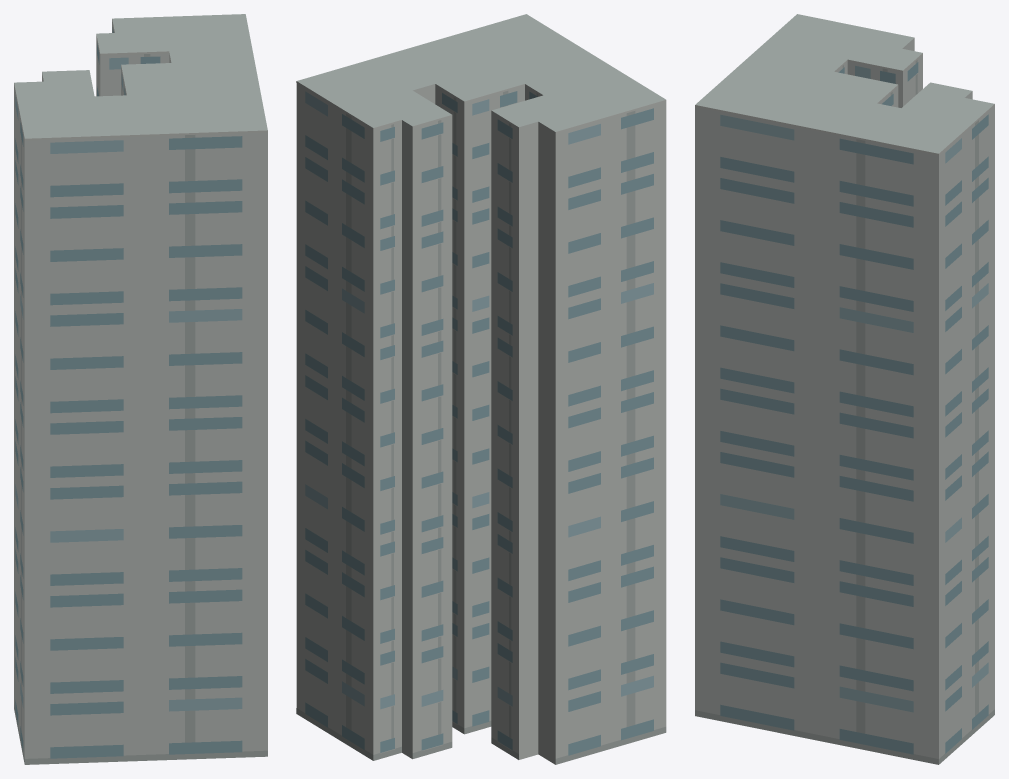
File: residential-70343155-5e8e-4729-a06d-0482565616be.glb
3 views of the same model, side by side, from view 1: azimuth 30°, elevation 25°; view 2: azimuth 150°, elevation 25°; view 3: azimuth 270°, elevation 25° (orthographic). The views are drawn at different scales.
Visible parts, largest first — view 1: residential-70343155-5e8e-4729-a06d-0482565616be.tmp; view 2: residential-70343155-5e8e-4729-a06d-0482565616be.tmp; view 3: residential-70343155-5e8e-4729-a06d-0482565616be.tmp.
Part boxes in pixels (bbox=[...]): residential-70343155-5e8e-4729-a06d-0482565616be.tmp: bbox=[14, 14, 267, 764]; residential-70343155-5e8e-4729-a06d-0482565616be.tmp: bbox=[296, 14, 666, 764]; residential-70343155-5e8e-4729-a06d-0482565616be.tmp: bbox=[695, 14, 994, 764].
Bounding box in the file's own units: 39.74 × 81 × 36.02.
